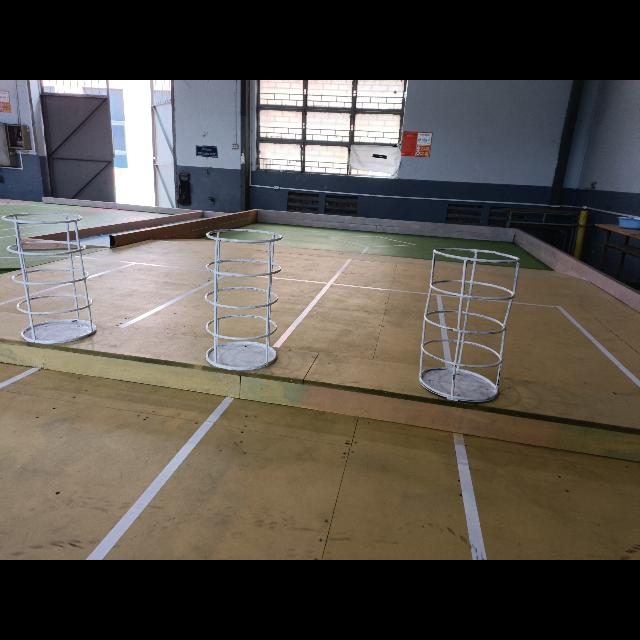S: (414, 246, 524, 404), (2, 212, 97, 344), (204, 226, 284, 370)
